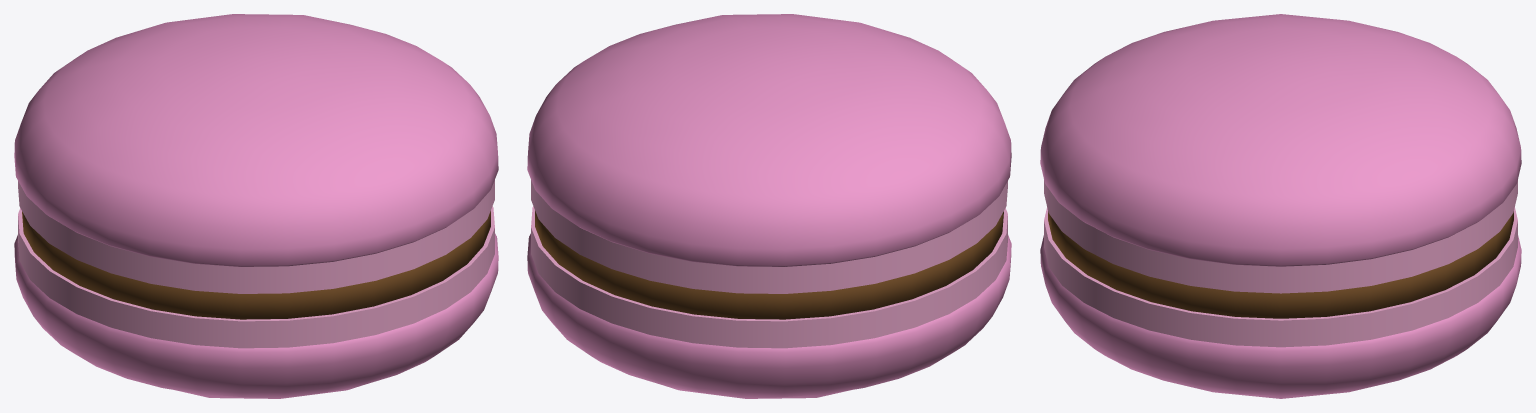
File: macaron.fbx
The picture shows the model from 3 angles, left to right: view 1: azimuth 30°, elevation 25°; view 2: azimuth 150°, elevation 25°; view 3: azimuth 270°, elevation 25°; orthographic projection.
Parts seen in each view (by area): view 1: macaron; view 2: macaron; view 3: macaron.
Boxes of the visible parts, left/top/right/bottom form: macaron: left=14, top=14, right=498, bottom=398; macaron: left=527, top=14, right=1011, bottom=398; macaron: left=1040, top=14, right=1521, bottom=398.
Size of the model in its own units: 8.22 by 5.5 by 8.22.
